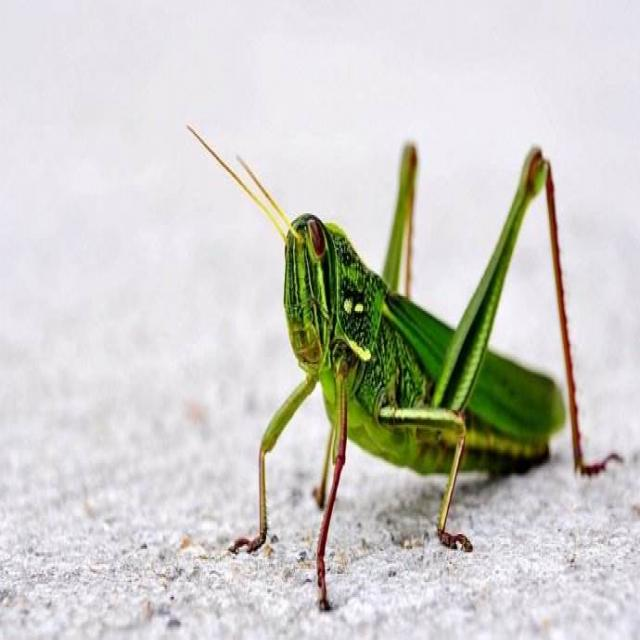ZhaMeng: (174, 100, 600, 594)
